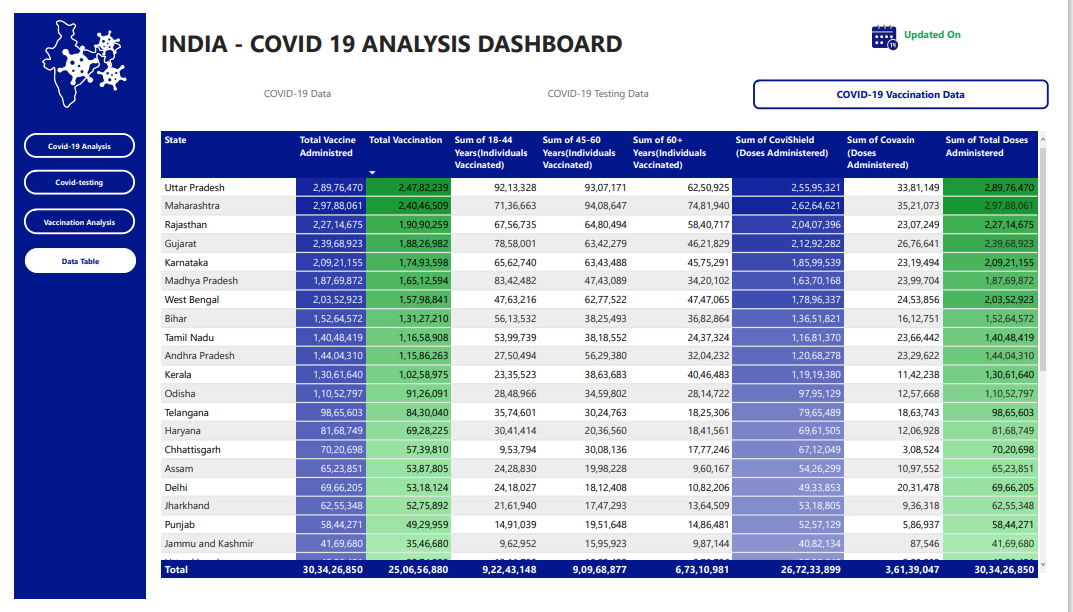

This screenshot's page, from the dashboard's own definition file:
{"tool":"powerbi","page":{"name":"DataTableDemo1","canvas":[1664,936],"ordinal":6},"visuals":[{"type":"shape","box":[0,0,211.5,936.1],"z":0},{"type":"image","box":[57.8,13.2,135.7,126],"z":0,"group":"g1"},{"type":"actionButton","title":"Testingdatabtn","box":[698.4,104.8,473,47.6],"z":0,"group":"g4"},{"type":"shape","box":[217.2,0,1437.5,98.4],"z":1000},{"type":"image","box":[24.6,3.3,167.4,155.7],"z":1000,"group":"g1"},{"type":"actionButton","title":"coviddatabtnback","box":[217.5,104.8,473,47.6],"z":1000,"group":"g2"},{"type":"actionButton","title":"vaccinedatabtnback","box":[1182.5,106.3,473,47.6],"z":1000,"group":"g3"},{"type":"shape","box":[217.2,159.4,1437.5,770.3],"z":2000},{"type":"actionButton","box":[15.9,192.1,177.8,39.7],"z":4000},{"type":"actionButton","box":[15.9,250.8,177.8,39.7],"z":5000},{"type":"actionButton","box":[15.9,312.7,177.8,41.3],"z":6000},{"type":"actionButton","box":[17.5,376.2,177.8,39.7],"z":7000},{"type":"tableEx","title":"vaccinetabledata","fields":{"Values":["covid_vaccine_statewise.State","Vaccine Measure.Total Vaccine Administred","Vaccine Measure.Total Vaccination","Sum(covid_vaccine_statewise.18-44 Years(Individuals Vaccinated))","Sum(covid_vaccine_statewise.45-60 Years(Individuals Vaccinated))","Sum(covid_vaccine_statewise.60+ Years(Individuals Vaccinated))","Sum(covid_vaccine_statewise.CoviShield (Doses Administered))","Sum(covid_vaccine_statewise. Covaxin (Doses Administered))","Sum(covid_vaccine_statewise.Total Doses Administered)"]},"box":[229.5,183.6,1426.2,724.6],"z":8000},{"type":"image","box":[1368.9,11.5,50.8,57.4],"z":10000},{"type":"textbox","box":[229.5,11.5,882,67.2],"z":11000},{"type":"group","id":"g1","title":"Group 1","box":[24.6,3.3,167.2,155.7],"z":12000},{"type":"textbox","box":[1419.7,18,144.3,39.3],"z":13000},{"type":"group","id":"g2","title":"CT-Btn","box":[217.5,104.8,473,47.6],"z":14000},{"type":"group","id":"g3","title":"VaccineBTN","box":[1182.5,106.3,473,47.6],"z":15000},{"type":"group","id":"g4","title":"TestingBtn","box":[698.4,104.8,473,47.6],"z":16000}]}

Visuals, with their boxes on the page's 1664x936 design canvas (x1, y1, x2, y2). These are canvas units, not pixel positions in the 1073x612 screenshot, which may show the page scaled, cropped or inside an application window:
shape: locate(0, 0, 212, 936)
image: locate(58, 13, 194, 139)
"Testingdatabtn" actionButton: locate(698, 105, 1171, 152)
shape: locate(217, 0, 1655, 98)
image: locate(25, 3, 192, 159)
"coviddatabtnback" actionButton: locate(218, 105, 690, 152)
"vaccinedatabtnback" actionButton: locate(1182, 106, 1656, 154)
shape: locate(217, 159, 1655, 930)
actionButton: locate(16, 192, 194, 232)
actionButton: locate(16, 251, 194, 290)
actionButton: locate(16, 313, 194, 354)
actionButton: locate(18, 376, 195, 416)
"vaccinetabledata" tableEx: locate(230, 184, 1656, 908)
image: locate(1369, 12, 1420, 69)
textbox: locate(230, 12, 1112, 79)
"Group 1" group: locate(25, 3, 192, 159)
textbox: locate(1420, 18, 1564, 57)
"CT-Btn" group: locate(218, 105, 690, 152)
"VaccineBTN" group: locate(1182, 106, 1656, 154)
"TestingBtn" group: locate(698, 105, 1171, 152)
